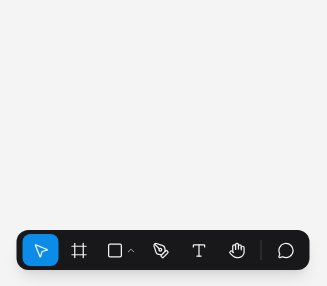
Test: BottomToolbar › picking ellipse from the flyout updates the tool store
Click the button with test id "tool-shape": (120, 250) [98,234,140,266]
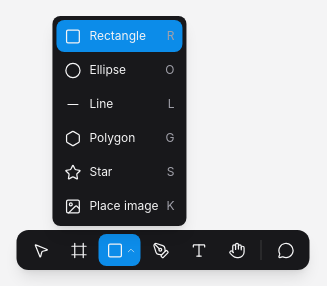
Click the menu item "Ellipse O": (119, 70) [56,54,182,86]
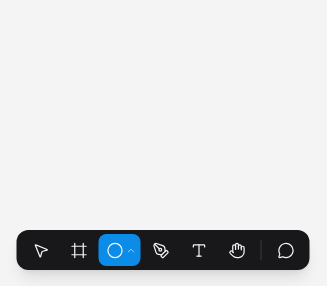
Result: the menu with test id "shape-flyout" is gone
